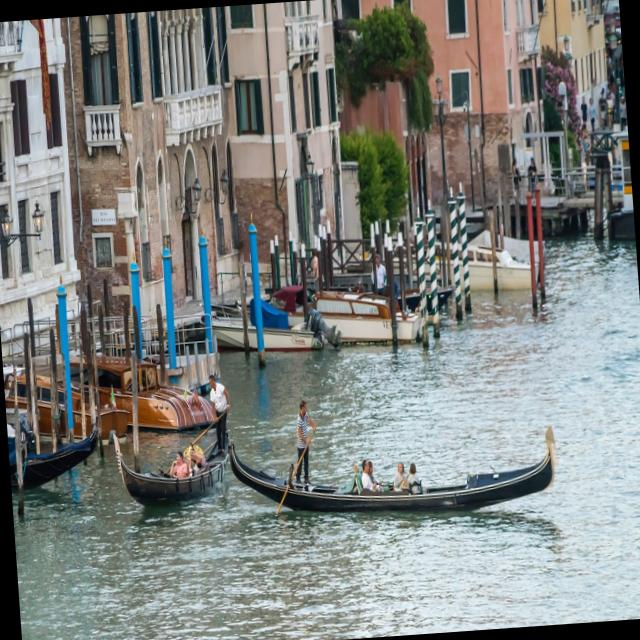boat: (220, 390, 587, 544), (100, 396, 242, 529)
